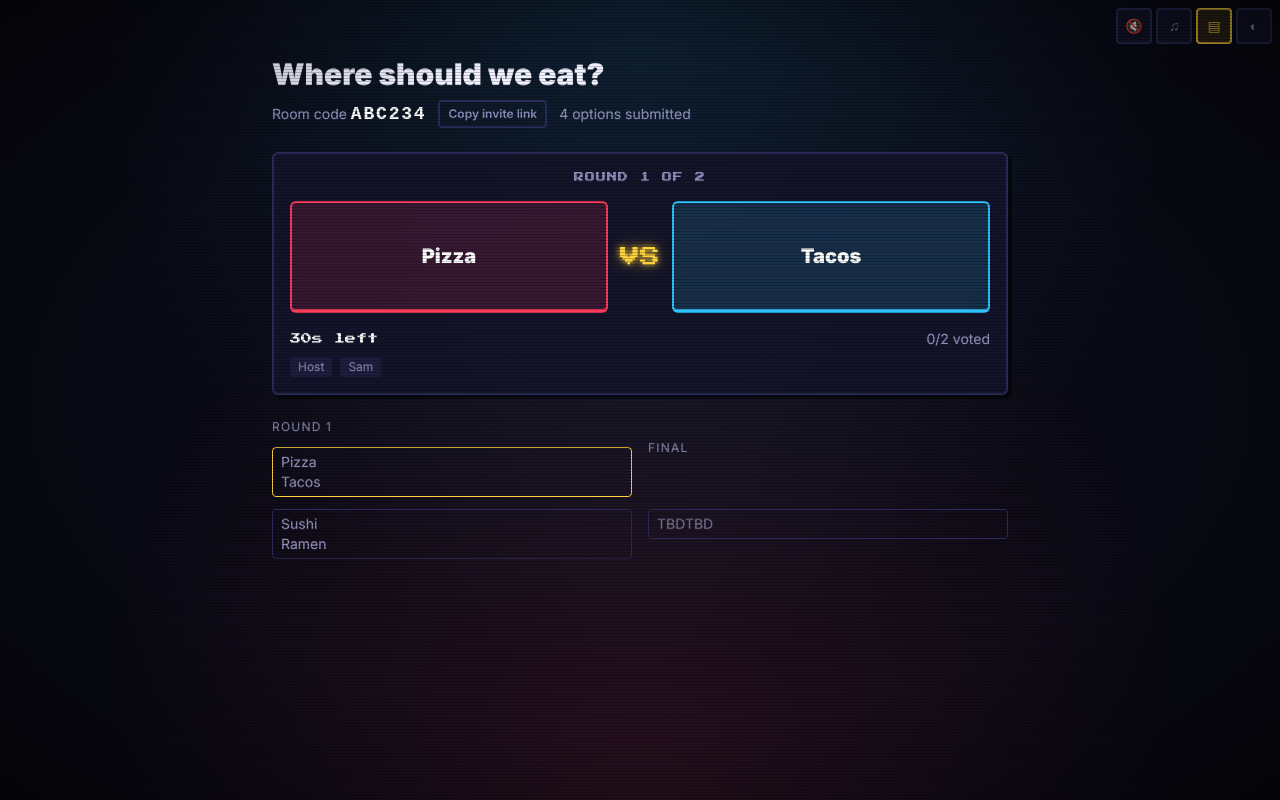
matchup screen › shows a vote error
The width and height of the screenshot is (1280, 800).
Click the button with aria-label "vote for pizza" at (449, 257), box [290, 201, 608, 313]
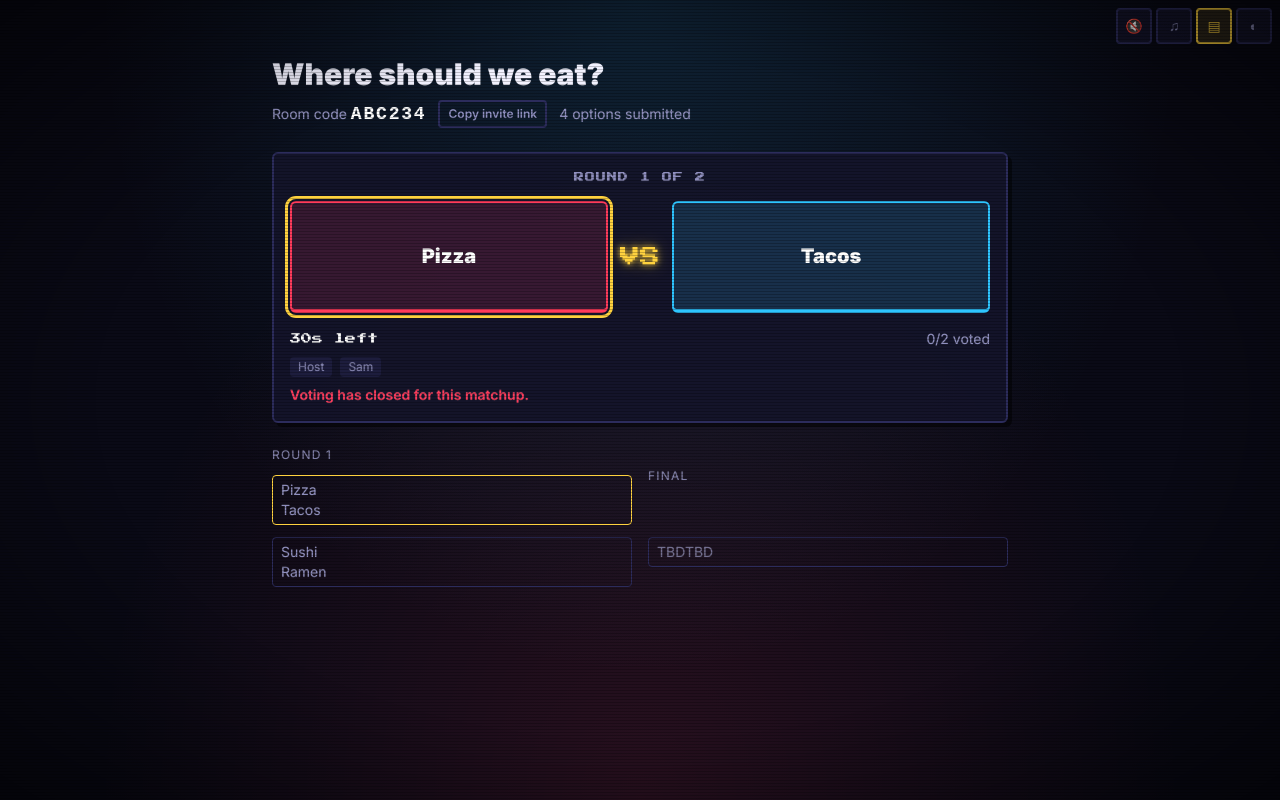
Result: the message reads "Voting has closed for this matchup." at [290, 386, 529, 403]
